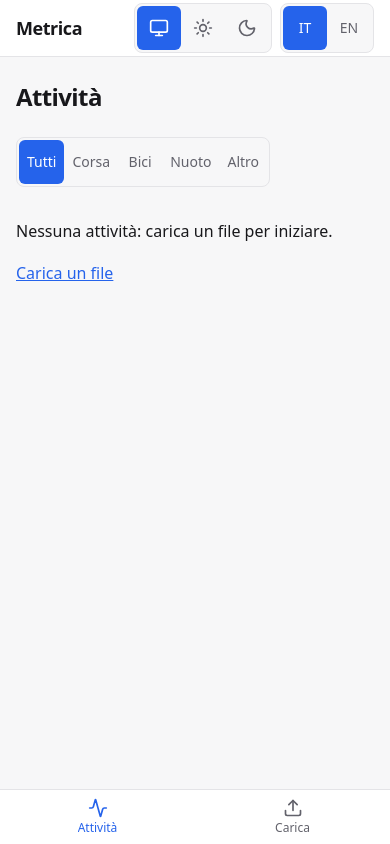
Test: layout a due modalità (le media query non si valutano in jsdom: si verificano le classi) › naviga con un clic sul link
Click the link "Carica".
click(293, 817)  # box [275,798,310,836]
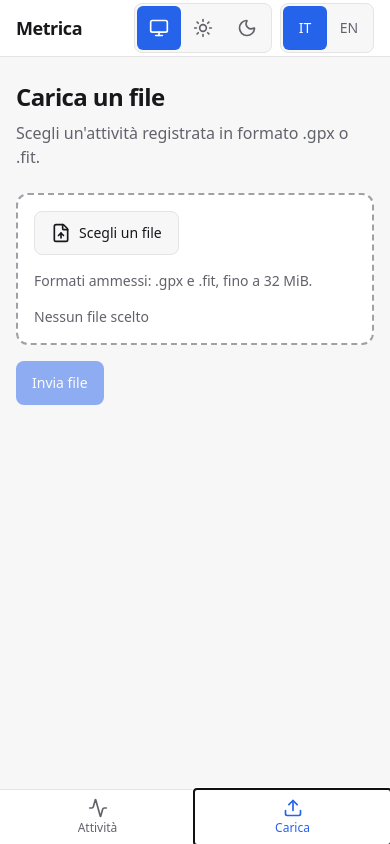
Expected: the heading "Carica un file" is shown, [16,80,165,113]
